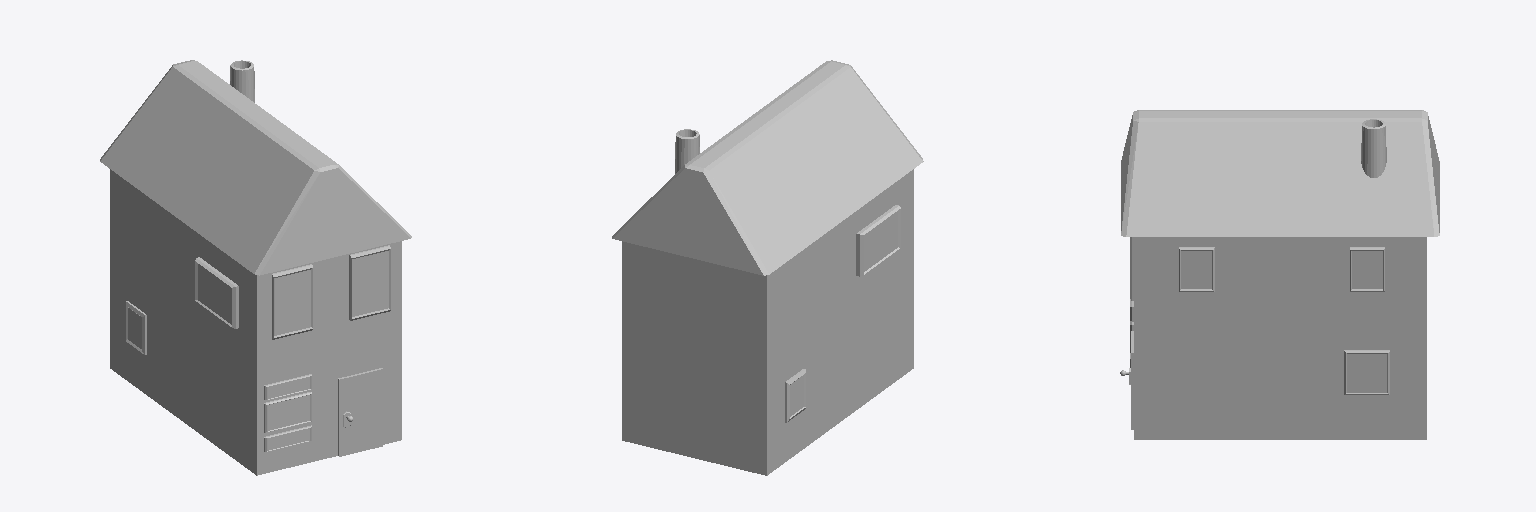
The model's file is house_model3.obj.
3 renders of one model, left to right at view 1: azimuth 30°, elevation 25°; view 2: azimuth 150°, elevation 25°; view 3: azimuth 270°, elevation 25°, orthographic.
Visible parts, largest first — view 1: roof003; view 2: roof003; view 3: roof003.
Part boxes in pixels (bbox=[...]): roof003: bbox=[100, 60, 411, 475]; roof003: bbox=[612, 60, 923, 475]; roof003: bbox=[1120, 110, 1439, 439].
Bounding box in the file's own units: 55.78 × 101 × 98.02.